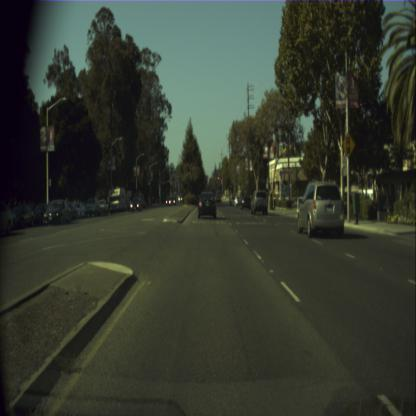Red: (218, 176, 219, 181)
Yellow: (230, 184, 232, 189), (209, 174, 210, 180)
